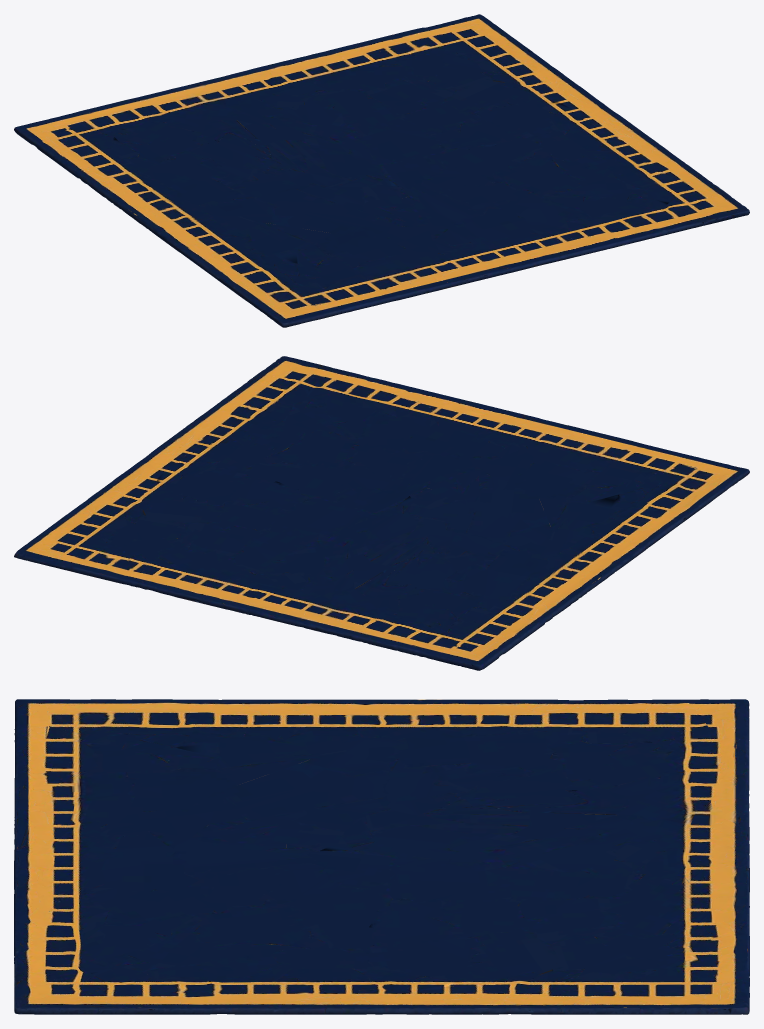
File: floor_mat.glb
3 renders of one model, top to bottom at view 1: azimuth 30°, elevation 25°; view 2: azimuth 150°, elevation 25°; view 3: azimuth 270°, elevation 25°, orthographic. The views are drawn at different scales.
Size of the model in its own units: 2.01 by 0.0202 by 2.02.
1 material, 1 textured.
